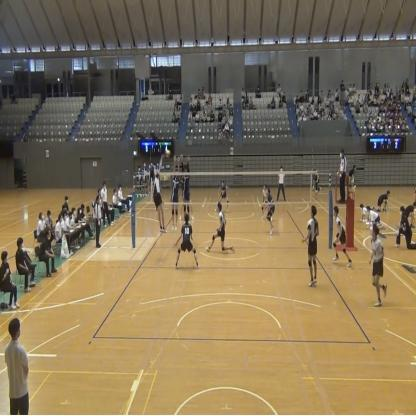spike: (146, 150, 170, 240)
